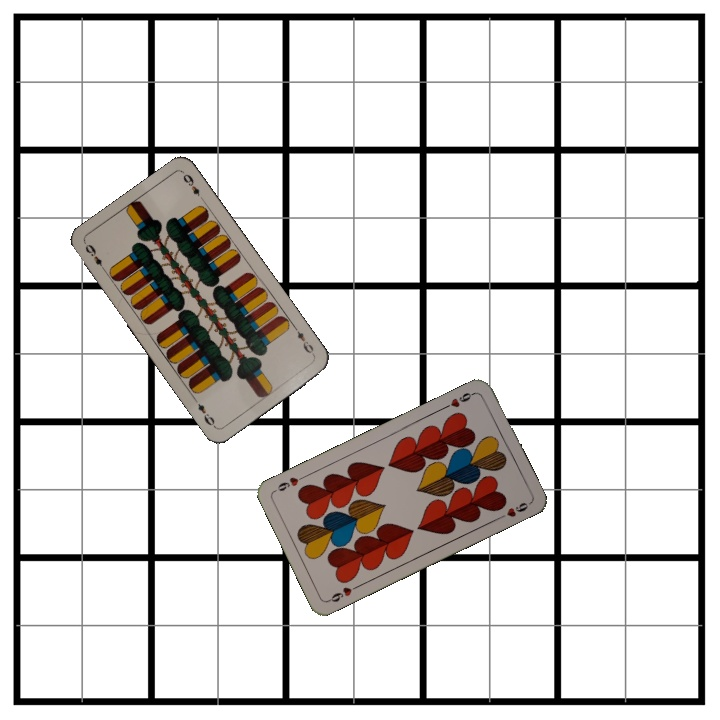E9: (81, 240, 109, 275), (290, 322, 317, 358)
H9: (324, 581, 362, 605), (440, 388, 478, 411)
